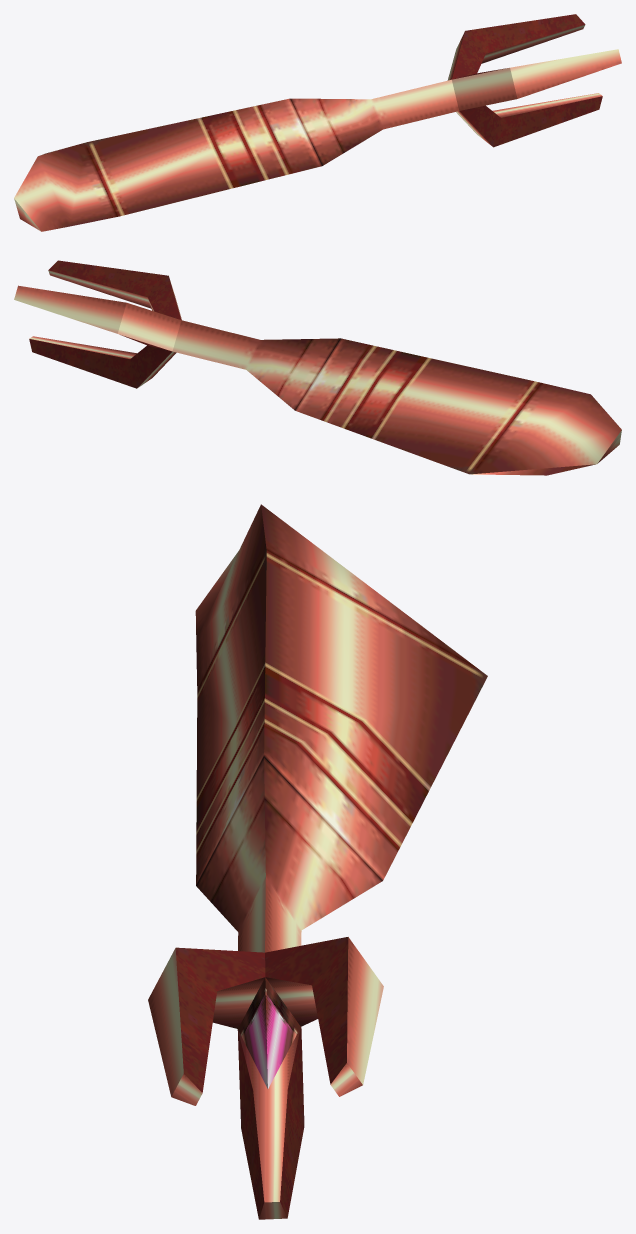
3 renders of one model, top to bottom at view 1: azimuth 30°, elevation 25°; view 2: azimuth 150°, elevation 25°; view 3: azimuth 270°, elevation 25°, orthographic. The views are drawn at different scales.
Visible parts, largest first — view 1: BW205; view 2: BW205; view 3: BW205.
Part boxes in pixels (bbox=[...]): BW205: bbox=[14, 14, 621, 231]; BW205: bbox=[14, 260, 621, 475]; BW205: bbox=[148, 504, 487, 1219].
Size of the model in its own units: 15.53 by 2.45 by 3.91.
1 material, 1 textured.
